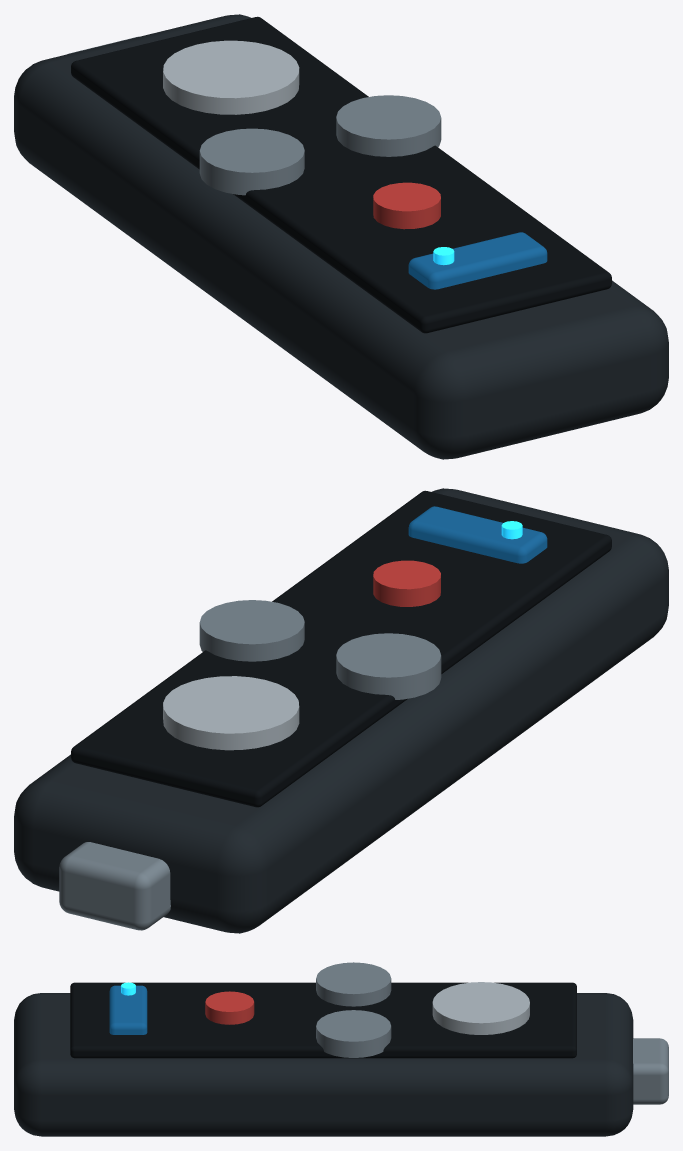
The model's file is presentation-clicker.glb.
The picture shows the model from 3 angles, top to bottom: view 1: azimuth 30°, elevation 25°; view 2: azimuth 150°, elevation 25°; view 3: azimuth 270°, elevation 25°; orthographic projection. The views are drawn at different scales.
Parts seen in each view (by area): view 1: Soft-touch clicker body, Control face, Next slide key, Previous key, Black screen key, Battery indicator, Laser key; view 2: Soft-touch clicker body, Control face, Next slide key, USB receiver dock, Previous key, Black screen key, Battery indicator, Laser key; view 3: Soft-touch clicker body, Control face, Next slide key, Black screen key, Previous key, USB receiver dock, Battery indicator, Laser key.
Part boxes in pixels (x1,y1,x2,y2): Soft-touch clicker body: [14, 14, 668, 459]; Control face: [71, 16, 611, 333]; Next slide key: [163, 40, 299, 114]; Previous key: [199, 128, 304, 195]; Black screen key: [336, 95, 441, 156]; Battery indicator: [408, 232, 547, 289]; Laser key: [373, 182, 440, 229]; Soft-touch clicker body: [14, 488, 668, 933]; Control face: [71, 490, 611, 807]; Next slide key: [163, 676, 299, 750]; USB receiver dock: [59, 842, 170, 930]; Previous key: [336, 633, 441, 699]; Black screen key: [199, 600, 304, 661]; Battery indicator: [408, 506, 547, 563]; Laser key: [373, 560, 440, 606]; Soft-touch clicker body: [14, 993, 633, 1136]; Control face: [70, 982, 576, 1058]; Next slide key: [432, 982, 529, 1034]; Black screen key: [316, 1010, 391, 1057]; Previous key: [316, 962, 391, 1006]; USB receiver dock: [633, 1038, 668, 1104]; Battery indicator: [109, 985, 147, 1034]; Laser key: [205, 991, 254, 1024].
Size of the model in its own units: 0.55 by 0.3075 by 1.74.
